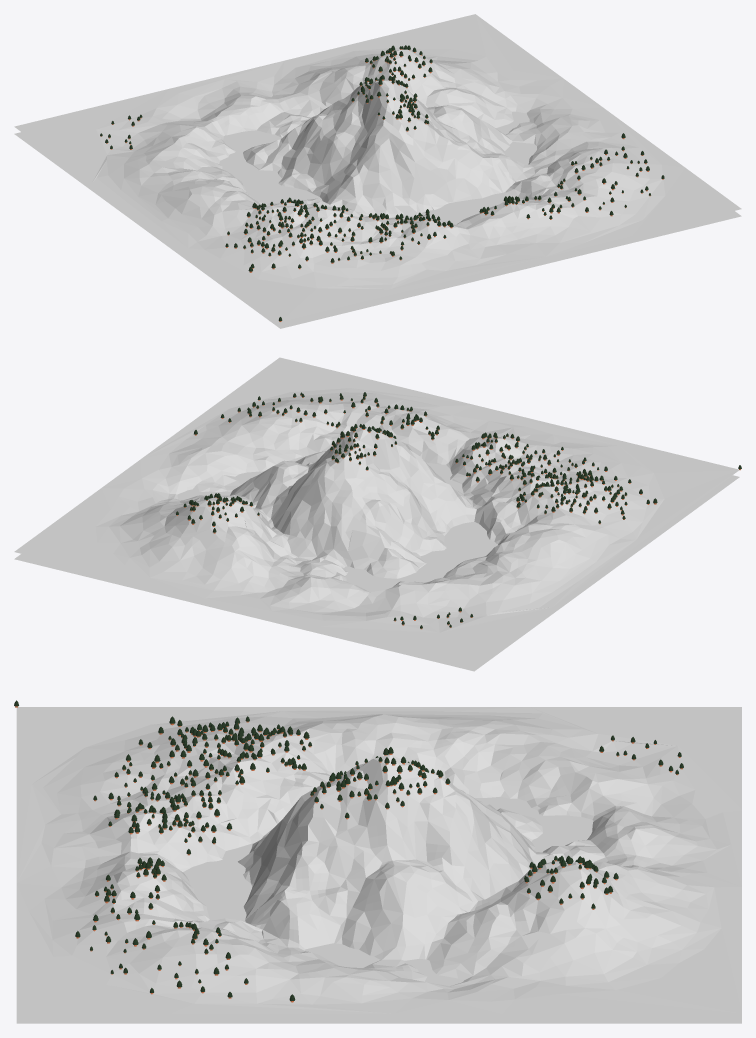
Rendered from Mountain_Lakes.fbx.
3 views of the same model, one above another, from view 1: azimuth 30°, elevation 25°; view 2: azimuth 150°, elevation 25°; view 3: azimuth 270°, elevation 25° (orthographic). The views are drawn at different scales.
Parts seen in each view (by area): view 1: Landscape.001; view 2: Landscape.001; view 3: Landscape.001.
Boxes of the visible parts, left/top/right/bottom form: Landscape.001: left=14, top=14, right=741, bottom=328; Landscape.001: left=14, top=357, right=739, bottom=671; Landscape.001: left=16, top=707, right=741, bottom=1023.
Size of the model in its own units: 4039 by 934 by 4039.
